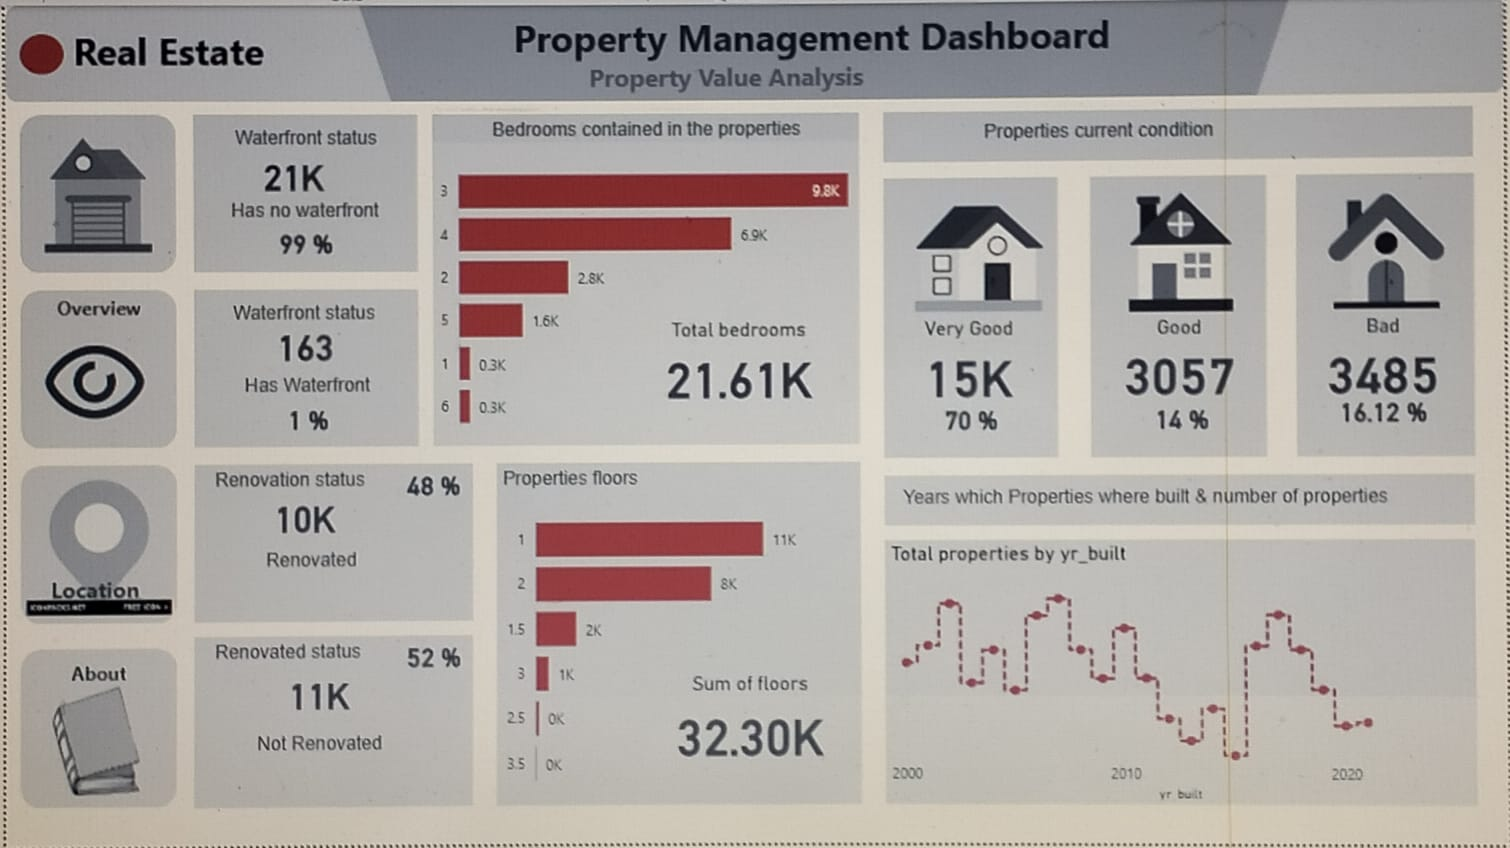

This screenshot's page, from the dashboard's own definition file:
{"tool":"powerbi","page":{"name":"Overview","canvas":[1280,720],"ordinal":0},"visuals":[{"type":"shape","box":[0,0,1280,83.3],"z":0},{"type":"shape","box":[301.4,0,796.8,83.3],"z":1000},{"type":"shape","box":[12.1,93.9,133.3,136.3],"z":2000},{"type":"shape","box":[12.1,243.9,133.3,136.3],"z":3000},{"type":"shape","box":[12.1,393.8,133.3,136.3],"z":4000},{"type":"shape","box":[12.1,551.4,133.3,136.3],"z":5000},{"type":"shape","box":[159.1,93.9,192.4,136.3],"z":6000},{"type":"shape","box":[159.1,243.9,192.4,136.3],"z":7000},{"type":"shape","box":[363.6,93.9,368.1,286.3],"z":8000},{"type":"shape","box":[159.1,393.8,239.3,136.3],"z":9000},{"type":"shape","box":[159.1,540.8,239.3,146.9],"z":10000},{"type":"shape","box":[418.1,393.8,313.6,293.9],"z":11000},{"type":"shape","box":[752.2,150.1,150.1,241.1],"z":12000},{"type":"shape","box":[752.9,462,501.4,225.7],"z":13000},{"type":"shape","box":[930.1,150,150,240.9],"z":14000},{"type":"shape","box":[1104.3,150,150,240.9],"z":15000},{"type":"shape","box":[752.9,93.9,501.4,43.9],"z":16000},{"type":"shape","box":[752.9,406,501.4,43.9],"z":17000},{"type":"textbox","box":[159.1,100,192.4,37.9],"z":18000},{"type":"textbox","box":[163.8,162.3,182,36.4],"z":19000},{"type":"textbox","box":[159.2,312.4,192.6,37.9],"z":20000},{"type":"textbox","box":[168.3,250.2,171.4,37.9],"z":21000},{"type":"card","fields":{"Values":["Measure Table.Waterefront yes"]},"box":[216.9,270,75.8,44],"z":22000},{"type":"card","fields":{"Values":["Measure Table.Waterfront no"]},"box":[210.8,115.3,68.2,62.2],"z":23000},{"type":"card","fields":{"Values":["Dim_Bedrooms.% waterfront yes"]},"box":[224.5,332.1,63.7,48.5],"z":24000},{"type":"card","fields":{"Values":["Dim_Bedrooms.% waterfront no"]},"box":[207.8,180.5,94,50],"z":25000},{"type":"textbox","box":[171.4,394.3,192.6,37.9],"z":26000},{"type":"textbox","box":[171.4,462.6,174.4,37.9],"z":27000},{"type":"textbox","box":[171.4,541.4,192.6,37.9],"z":28000},{"type":"textbox","box":[182,620.3,169.9,37.9],"z":29000},{"type":"card","fields":{"Values":["Dim_Bedrooms.Renovated"]},"box":[218.4,414,71.3,48.5],"z":30000},{"type":"card","fields":{"Values":["Measure Table.Not Renovated"]},"box":[224.5,567.2,81.9,47],"z":31000},{"type":"card","fields":{"Values":["Measure Table.% Renovated"]},"box":[333.6,394.3,59.1,37.9],"z":32000},{"type":"card","fields":{"Values":["Measure Table.% Not Renovated"]},"box":[333.6,541.4,59.1,37.9],"z":33000},{"type":"textbox","box":[364,94,368.5,36.4],"z":34000},{"type":"textbox","box":[418.6,394.3,313.9,33.4],"z":35000},{"type":"textbox","box":[752.2,97.1,368.5,36.4],"z":36000},{"type":"textbox","box":[762.8,411,491.4,36.4],"z":37000},{"type":"barChart","fields":{"Y":["CountNonNull(FactTable.bedrooms)"],"Category":["FactTable.Bedrooms 2"]},"box":[364,118.3,368.5,262.4],"z":38000},{"type":"card","title":"Total bedrooms","fields":{"Values":["CountNonNull(FactTable.bedrooms)"]},"box":[533.8,270,188.1,80.4],"z":39000},{"type":"barChart","fields":{"Y":["CountNonNull(FactTable.floors)"],"Category":["FactTable.Floors 2"]},"box":[418.6,417.1,313.9,271.5],"z":40000},{"type":"card","title":"Sum of floors","fields":{"Values":["Sum(FactTable.floors)"]},"box":[549,573.3,172.9,84.9],"z":41000},{"type":"lineChart","fields":{"Category":["FactTable.yr_built"],"Y":["Measure Table.Total properties"]},"box":[752.2,462.6,502,226],"z":42000},{"type":"card","title":"Very Good","fields":{"Values":["Measure Table.Very good"]},"box":[762.8,270,124.4,78.9],"z":43000},{"type":"card","title":"Good","fields":{"Values":["Measure Table.Good"]},"box":[932.7,270,145.6,77.3],"z":44000},{"type":"card","title":"Bad","fields":{"Values":["Measure Table.Bad"]},"box":[1104.1,270,145.6,77.3],"z":45000},{"type":"card","fields":{"Values":["Measure Table.% Verygood"]},"box":[793.2,336.7,68.2,44],"z":46000},{"type":"card","fields":{"Values":["Measure Table.% Good"]},"box":[973.6,336.7,68.2,44],"z":47000},{"type":"card","fields":{"Values":["Measure Table.% Bad"]},"box":[1131.4,332.1,91,44],"z":48000},{"type":"textbox","box":[363.6,0,652.9,53],"z":49000},{"type":"shape","box":[12.1,24.2,37.9,34.8],"z":50000},{"type":"textbox","box":[481.7,42.4,271.1,37.9],"z":51000},{"type":"image","box":[12.1,269.6,125.7,106],"z":52000},{"type":"textbox","box":[53,10.6,206,62.1],"z":53000},{"type":"image","box":[21.2,575.6,107.6,107.6],"z":54000},{"type":"image","box":[12.1,393.8,133.3,133.3],"z":55000},{"type":"image","box":[763.5,159.1,140.9,119.7],"z":56000},{"type":"image","box":[945.2,159.1,124.2,112.1],"z":57000},{"type":"image","box":[1125.5,162.1,107.6,107.6],"z":58000},{"type":"image","box":[24.2,106,107.6,113.6],"z":59000},{"type":"actionButton","box":[12.1,243.9,133.3,131.8],"z":59001},{"type":"actionButton","box":[28.8,552.9,100,36.4],"z":59002},{"type":"actionButton","box":[12.1,393.8,125.7,122.7],"z":59003}]}

Visuals, with their boxes in screenshot pixels (x1, y1, x2, y2), scaled from the page's 1280x720 canvas onto the 1510x848 screenshot:
shape: bbox=[0, 0, 1509, 98]
shape: bbox=[356, 0, 1296, 98]
shape: bbox=[14, 111, 172, 271]
shape: bbox=[14, 287, 172, 448]
shape: bbox=[14, 464, 172, 624]
shape: bbox=[14, 649, 172, 810]
shape: bbox=[188, 111, 415, 271]
shape: bbox=[188, 287, 415, 448]
shape: bbox=[429, 111, 863, 448]
shape: bbox=[188, 464, 470, 624]
shape: bbox=[188, 637, 470, 810]
shape: bbox=[493, 464, 863, 810]
shape: bbox=[887, 177, 1064, 461]
shape: bbox=[888, 544, 1480, 810]
shape: bbox=[1097, 177, 1274, 460]
shape: bbox=[1303, 177, 1480, 460]
shape: bbox=[888, 111, 1480, 162]
shape: bbox=[888, 478, 1480, 530]
textbox: bbox=[188, 118, 415, 162]
textbox: bbox=[193, 191, 408, 234]
textbox: bbox=[188, 368, 415, 413]
textbox: bbox=[199, 295, 401, 339]
card - Measure Table.Waterefront yes: bbox=[256, 318, 345, 370]
card - Measure Table.Waterfront no: bbox=[249, 136, 329, 209]
card - Dim_Bedrooms.% waterfront yes: bbox=[265, 391, 340, 448]
card - Dim_Bedrooms.% waterfront no: bbox=[245, 213, 356, 271]
textbox: bbox=[202, 464, 429, 509]
textbox: bbox=[202, 545, 408, 589]
textbox: bbox=[202, 638, 429, 682]
textbox: bbox=[215, 731, 415, 775]
card - Dim_Bedrooms.Renovated: bbox=[258, 488, 342, 545]
card - Measure Table.Not Renovated: bbox=[265, 668, 361, 723]
card - Measure Table.% Renovated: bbox=[394, 464, 463, 509]
card - Measure Table.% Not Renovated: bbox=[394, 638, 463, 682]
textbox: bbox=[429, 111, 864, 154]
textbox: bbox=[494, 464, 864, 504]
textbox: bbox=[887, 114, 1322, 157]
textbox: bbox=[900, 484, 1480, 527]
barChart - CountNonNull(FactTable.bedrooms) x FactTable.Bedrooms 2: bbox=[429, 139, 864, 448]
"Total bedrooms" card: bbox=[630, 318, 852, 413]
barChart - CountNonNull(FactTable.floors) x FactTable.Floors 2: bbox=[494, 491, 864, 811]
"Sum of floors" card: bbox=[648, 675, 852, 775]
lineChart - FactTable.yr_built x Measure Table.Total properties: bbox=[887, 545, 1480, 811]
"Very Good" card: bbox=[900, 318, 1047, 411]
"Good" card: bbox=[1100, 318, 1272, 409]
"Bad" card: bbox=[1302, 318, 1474, 409]
card - Measure Table.% Verygood: bbox=[936, 397, 1016, 448]
card - Measure Table.% Good: bbox=[1149, 397, 1229, 448]
card - Measure Table.% Bad: bbox=[1335, 391, 1442, 443]
textbox: bbox=[429, 0, 1199, 62]
shape: bbox=[14, 29, 59, 69]
textbox: bbox=[568, 50, 888, 95]
image: bbox=[14, 318, 163, 442]
textbox: bbox=[63, 12, 306, 86]
image: bbox=[25, 678, 152, 805]
image: bbox=[14, 464, 172, 621]
image: bbox=[901, 187, 1067, 328]
image: bbox=[1115, 187, 1262, 319]
image: bbox=[1328, 191, 1455, 318]
image: bbox=[29, 125, 155, 259]
actionButton: bbox=[14, 287, 172, 442]
actionButton: bbox=[34, 651, 152, 694]
actionButton: bbox=[14, 464, 163, 608]
